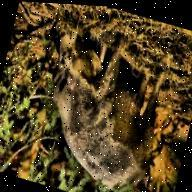boar: (27, 15, 180, 192)
